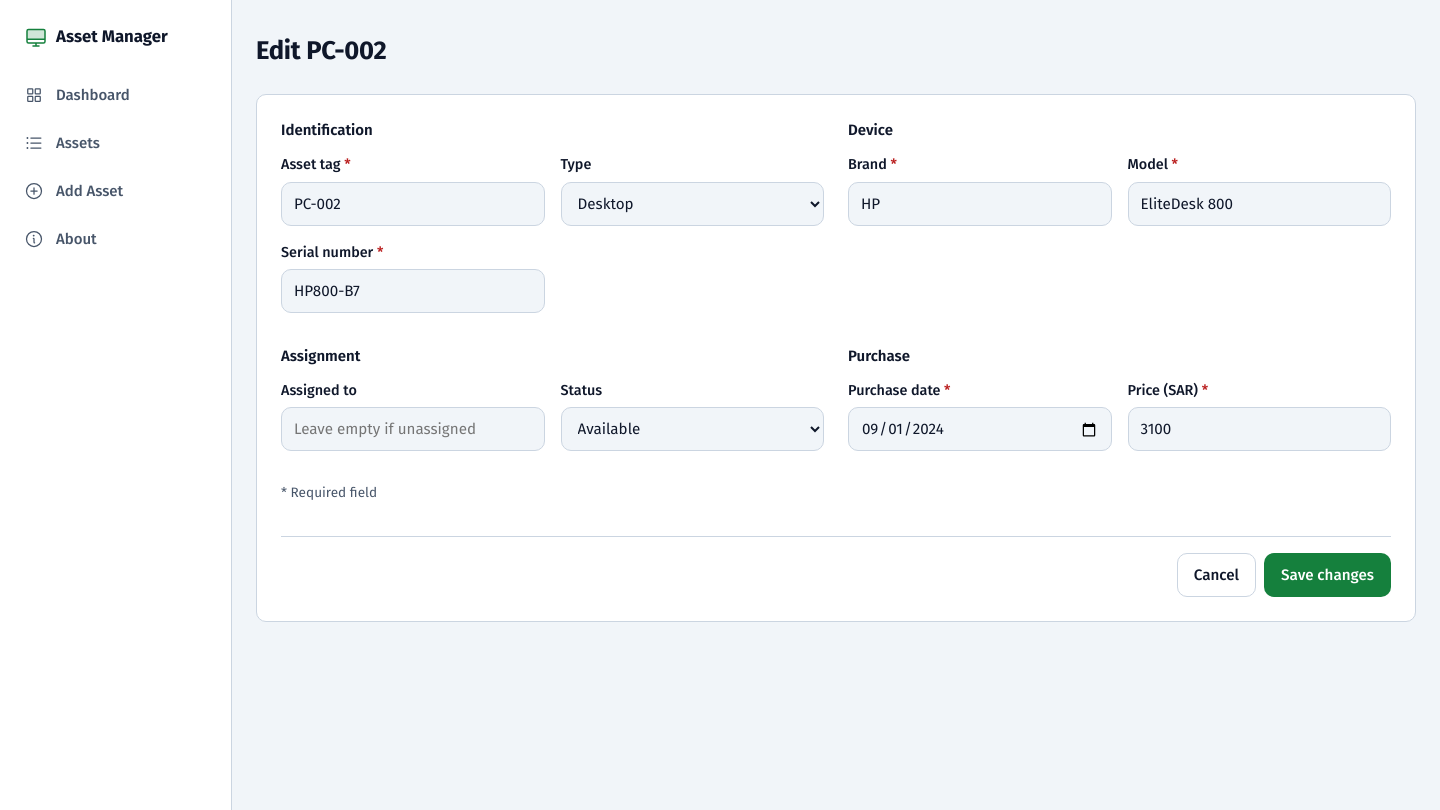
Test: UI (integrated with the backend API) › edits an asset
Replace the text in the field labelled "Brand *" with "Compaq" at (980, 204), box [848,182,1112,226]
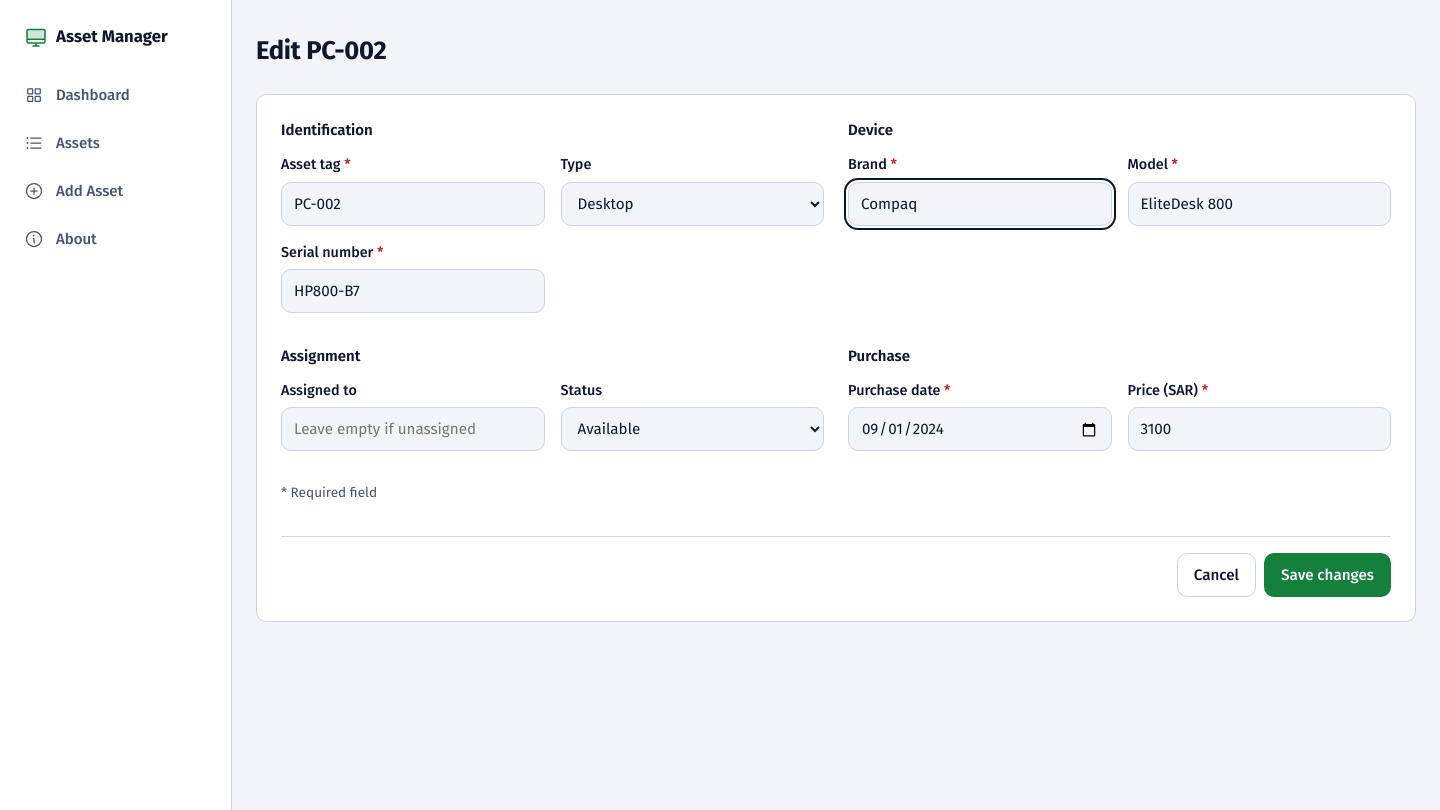
Click the button "Save changes".
click(1328, 575)  # box [1264,553,1391,597]
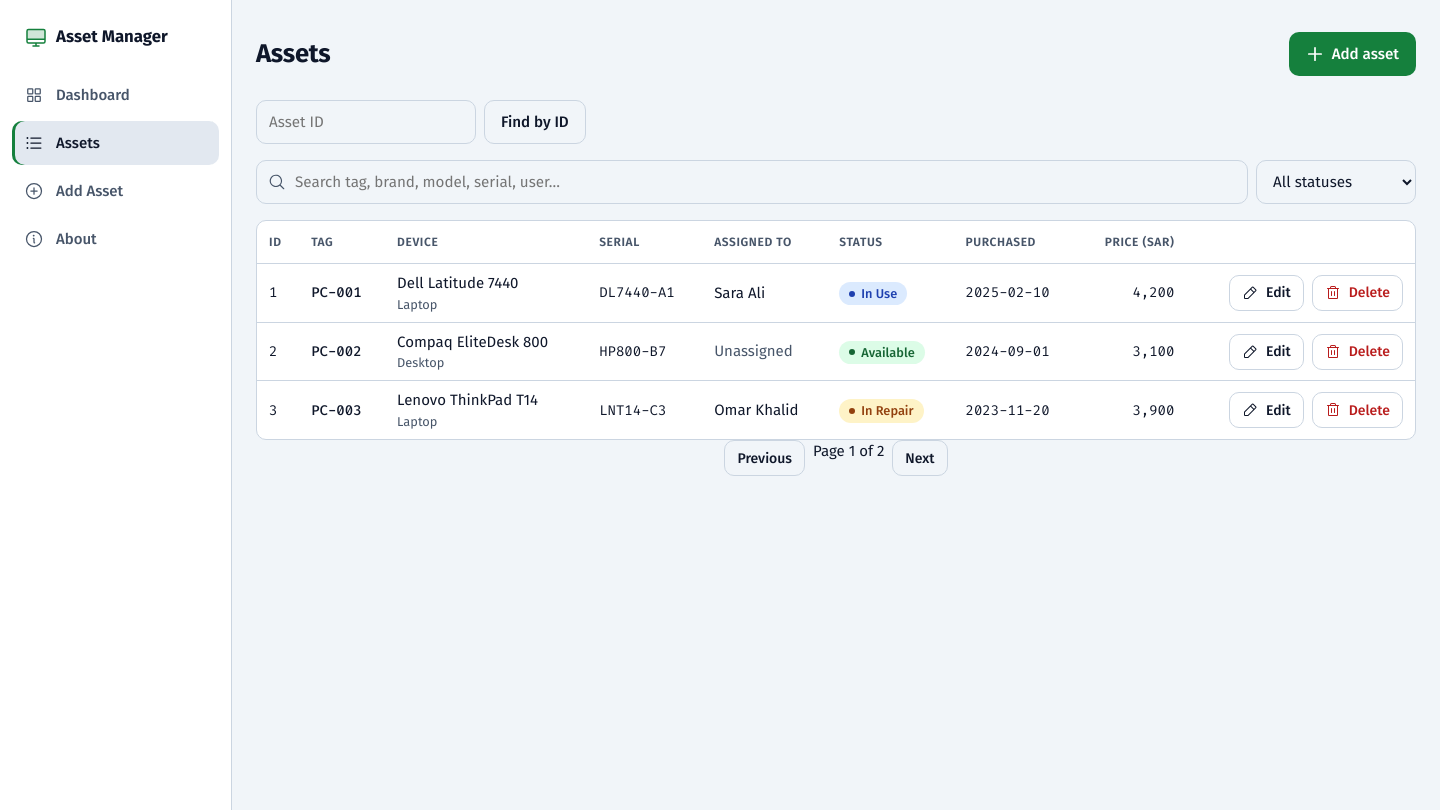
expect the text "Compaq EliteDesk 800 Desktop" is shown: met, box [397,333,548,370]
